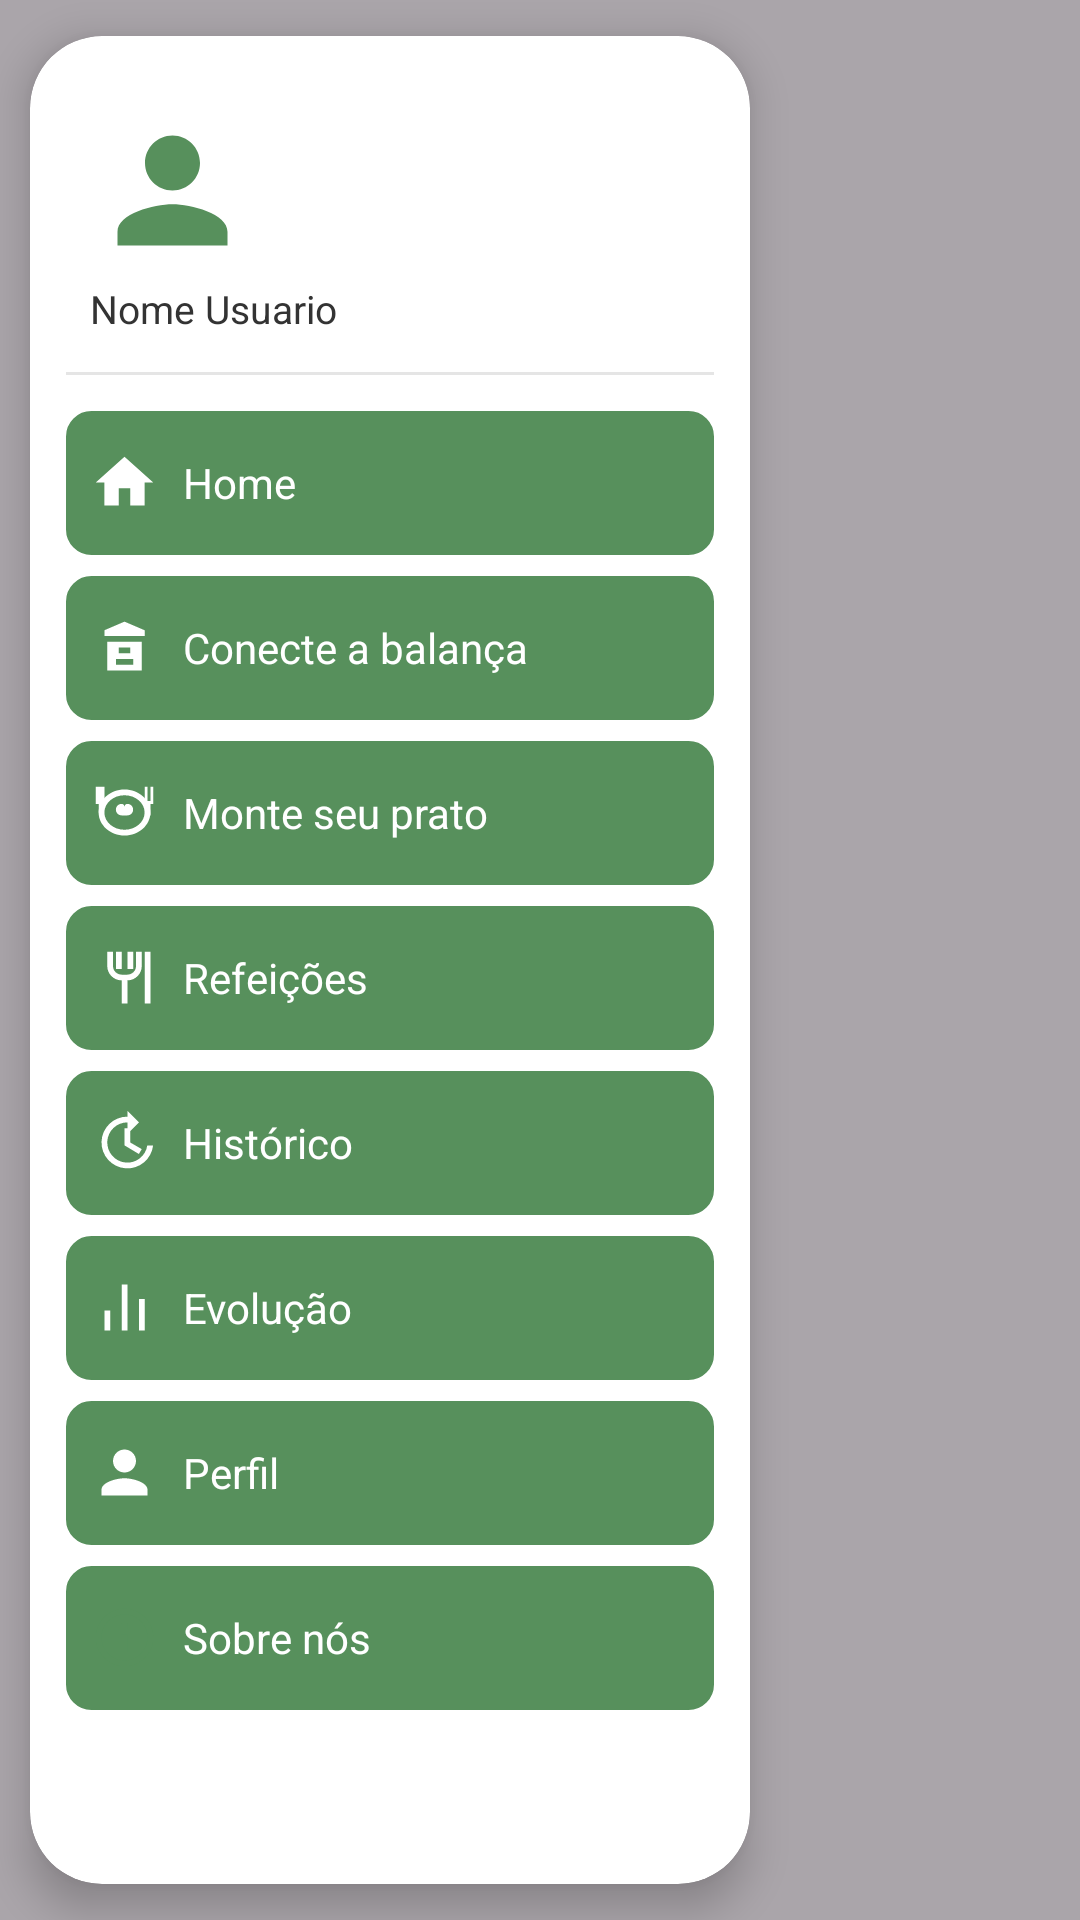

Icons on this 1080 x 1920 Android screen, each with the point to tap as (x=x, y=y):
Foto do usuário: (x=172, y=190)
